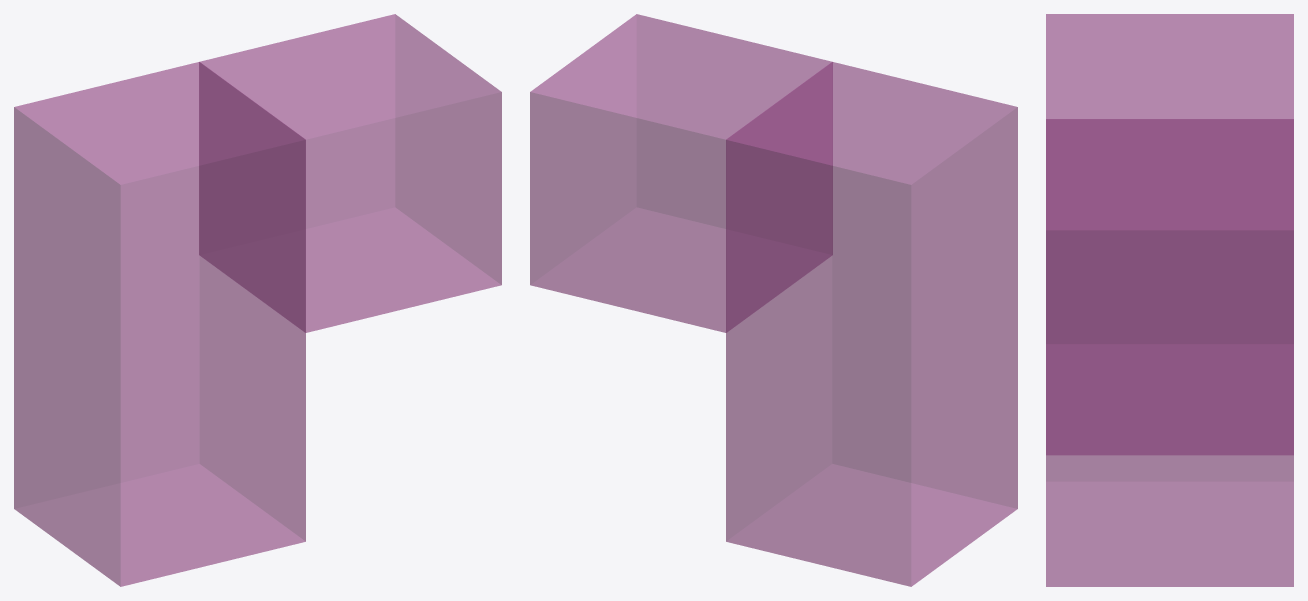
File: SM_Bld_Metal_Pipe_Frame_01_Collision.fbx
The picture shows the model from 3 angles, left to right: view 1: azimuth 30°, elevation 25°; view 2: azimuth 150°, elevation 25°; view 3: azimuth 270°, elevation 25°; orthographic projection. The views are drawn at different scales.
Visible parts, largest first — view 1: SM_Bld_Metal_Pipe_Frame_01_Collision; view 2: SM_Bld_Metal_Pipe_Frame_01_Collision; view 3: SM_Bld_Metal_Pipe_Frame_01_Collision.
Boxes of the visible parts, x1,y1,x2,y2 form: SM_Bld_Metal_Pipe_Frame_01_Collision: (14,14,501,586); SM_Bld_Metal_Pipe_Frame_01_Collision: (530,14,1017,586); SM_Bld_Metal_Pipe_Frame_01_Collision: (1046,14,1293,586).
Size of the model in its own units: 334 by 337 by 162.
